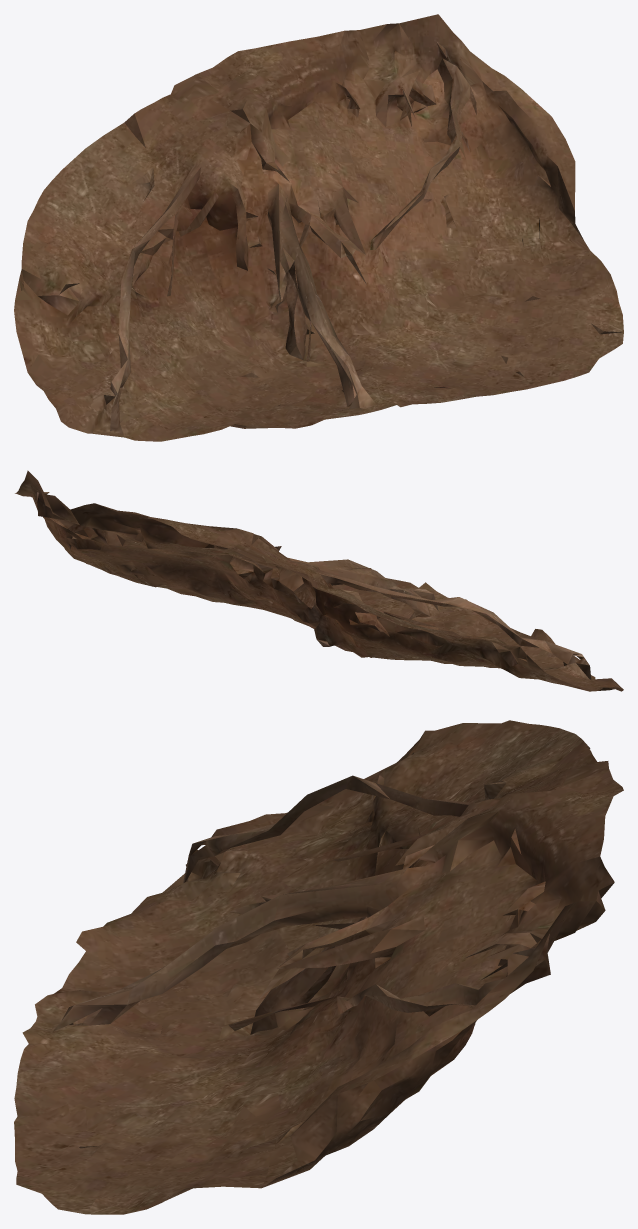
The model's file is earth_roots_a.glb.
The picture shows the model from 3 angles, top to bottom: view 1: azimuth 30°, elevation 25°; view 2: azimuth 150°, elevation 25°; view 3: azimuth 270°, elevation 25°; orthographic projection. The views are drawn at different scales.
Visible parts, largest first — view 1: earth_roots_a; view 2: earth_roots_a; view 3: earth_roots_a.
Boxes of the visible parts, x1=… form: earth_roots_a: x1=14, y1=14, x2=623, y2=441; earth_roots_a: x1=15, y1=470, x2=623, y2=691; earth_roots_a: x1=14, y1=720, x2=623, y2=1214.
Bounding box in the file's own units: 4.12 × 1.5 × 2.68.
1 material, 1 textured.
